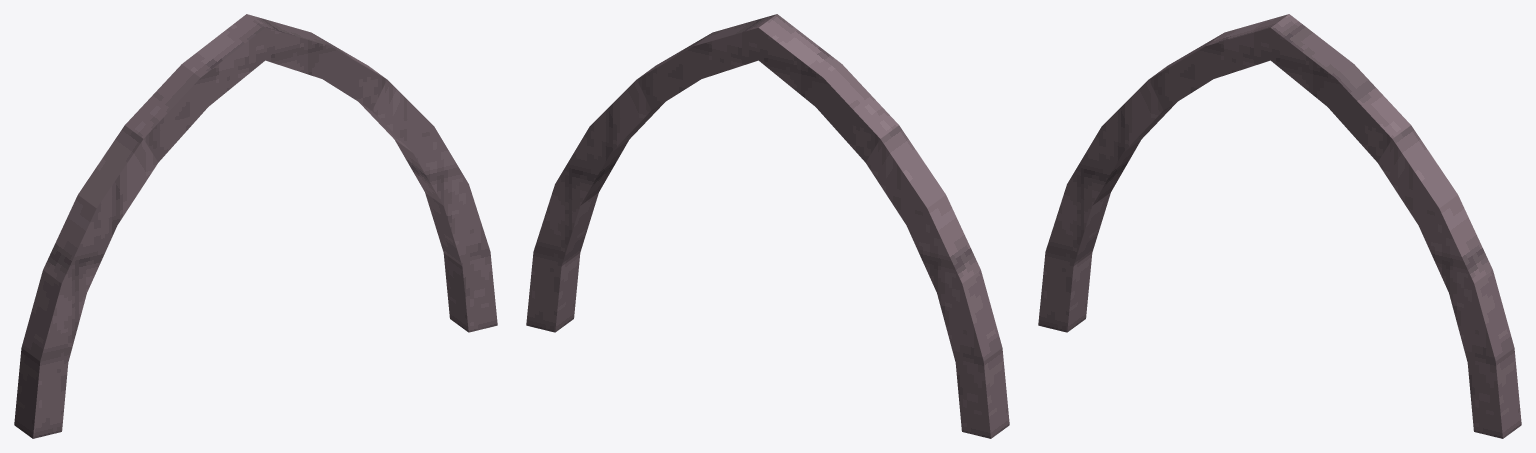
File: fuehrung_normal_b.glb
3 views of the same model, side by side, from view 1: azimuth 30°, elevation 25°; view 2: azimuth 150°, elevation 25°; view 3: azimuth 330°, elevation 25° (orthographic).
Visible parts, largest first — view 1: fuehrung_normal; view 2: fuehrung_normal; view 3: fuehrung_normal.
Part boxes in pixels (x1,y1,x2,y2): fuehrung_normal: (14,14,497,438); fuehrung_normal: (526,14,1009,438); fuehrung_normal: (1038,14,1521,438).
Size of the model in its own units: 2 by 1.46 by 0.14.
1 material, 1 textured.
